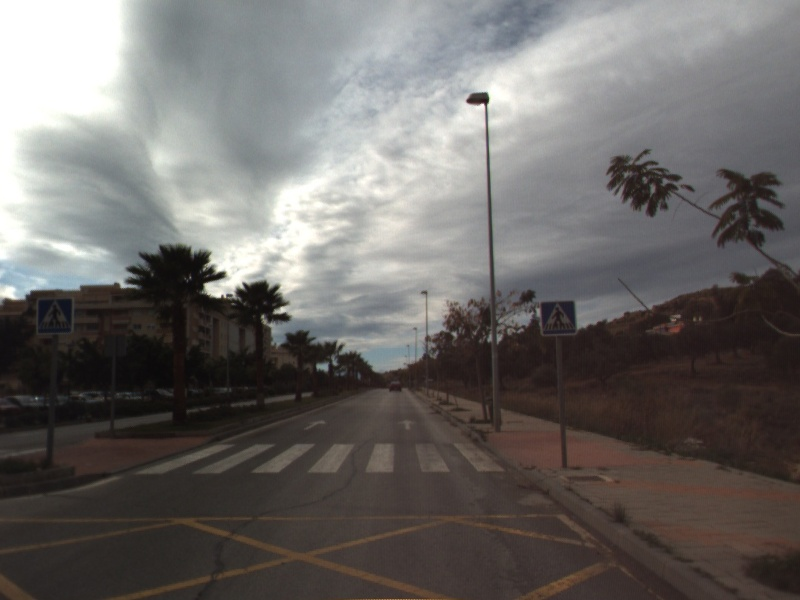STRAIGHT: (301, 418, 329, 432), (395, 417, 418, 432)
